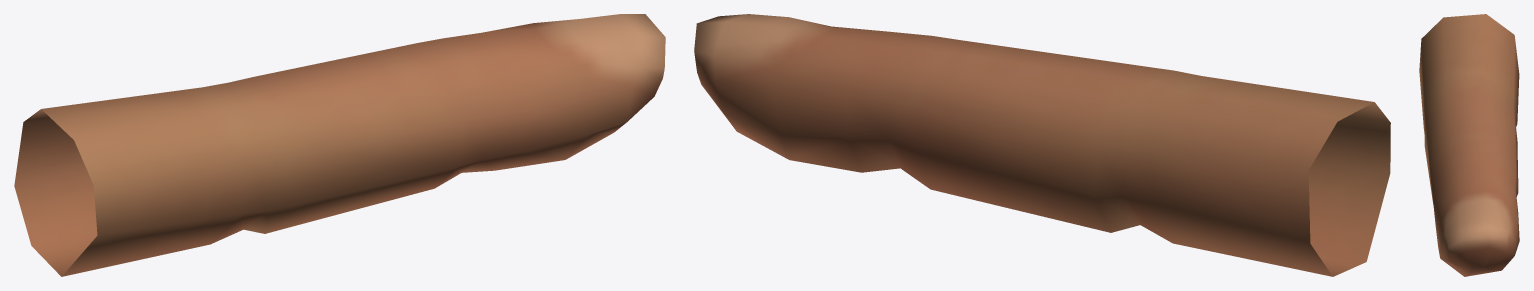
The model's file is finger.gltf.
The picture shows the model from 3 angles, left to right: view 1: azimuth 30°, elevation 25°; view 2: azimuth 150°, elevation 25°; view 3: azimuth 270°, elevation 25°; orthographic projection. The views are drawn at different scales.
Visible parts, largest first — view 1: Female_Regular; view 2: Female_Regular; view 3: Female_Regular.
Part boxes in pixels (<box>): Female_Regular: <box>14,14,665,276</box>; Female_Regular: <box>694,14,1390,276</box>; Female_Regular: <box>1419,14,1519,276</box>.
Bounding box in the file's own units: 4.66 × 1.17 × 1.06.
1 material, 1 textured.
